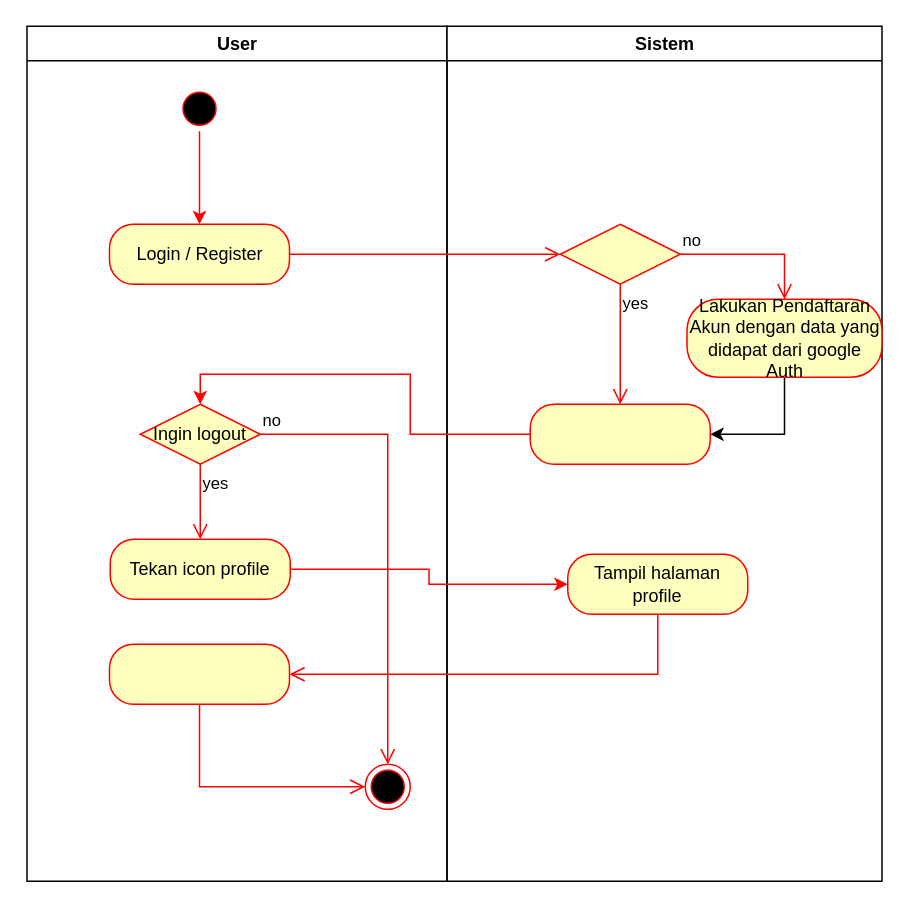
Image size: 908x908. Some labels were removed from this diagram. The shapes that lost their labels are listed below. From the top down, each one's centre as x and y in pixels, then its label:
At point (619, 253): "Cek Akun Terdaftar".
At point (619, 433): "Tampil Halaman Home".
At point (199, 673): "Tekan tombol keluar".
